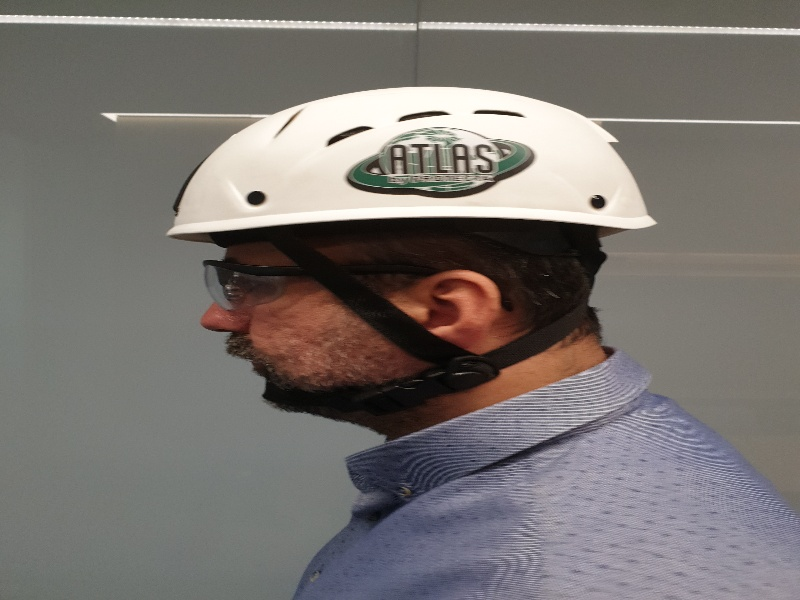Baret: (171, 86, 655, 237)
Gozluk: (200, 259, 444, 312)
